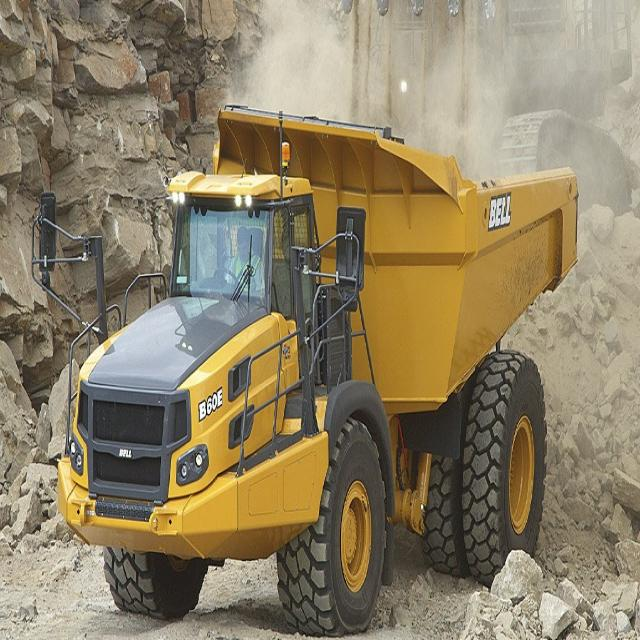dump_truck: (50, 79, 593, 614)
